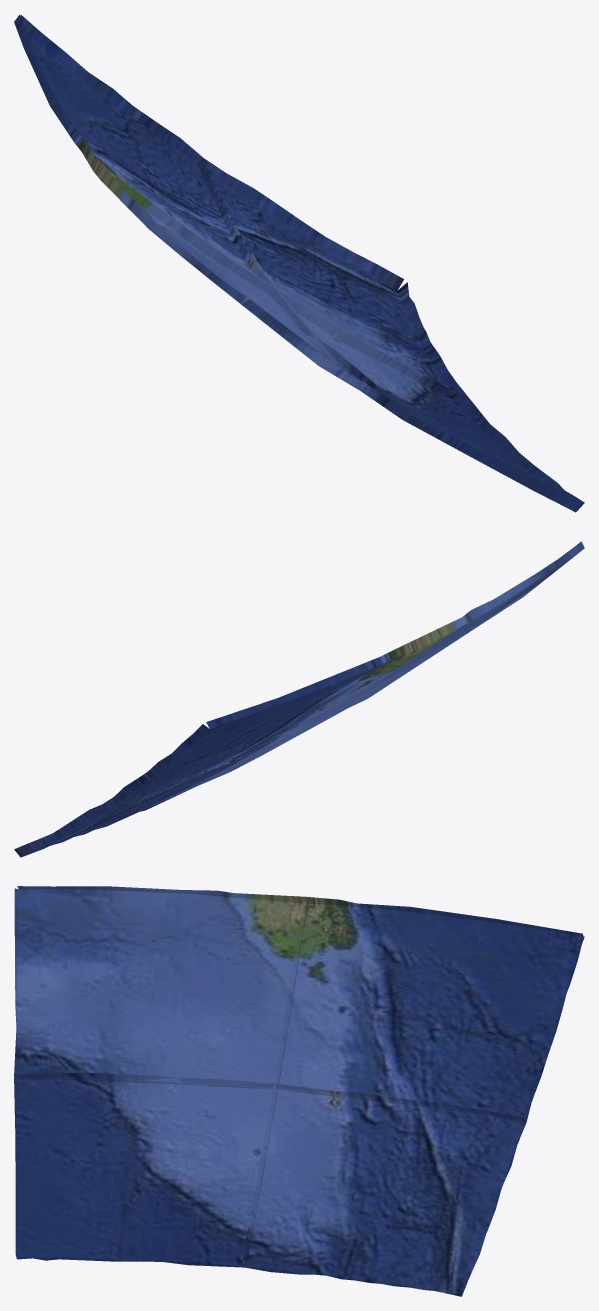
3 renders of one model, top to bottom at view 1: azimuth 30°, elevation 25°; view 2: azimuth 150°, elevation 25°; view 3: azimuth 270°, elevation 25°, orthographic. The views are drawn at different scales.
Size of the model in its own units: 1264338 by 823035 by 1749691.
1 material, 1 textured.
